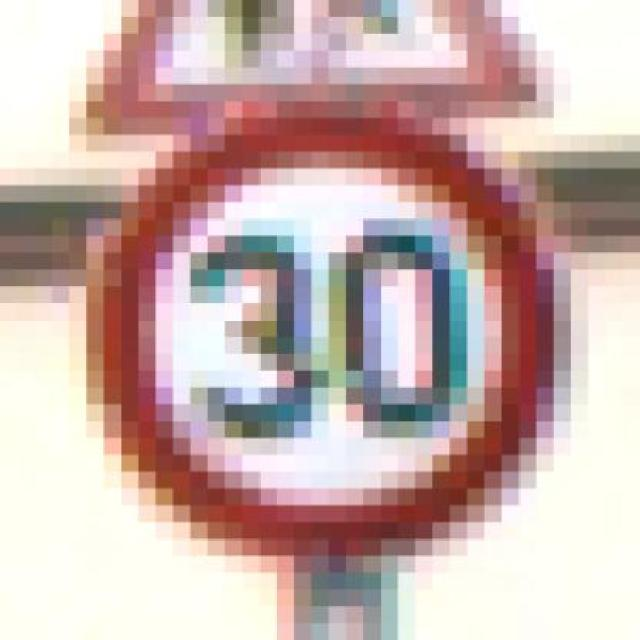Speed Limit 30 KMPh: (51, 84, 588, 607)
